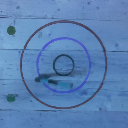Axe Tip: (40, 75, 52, 77)
